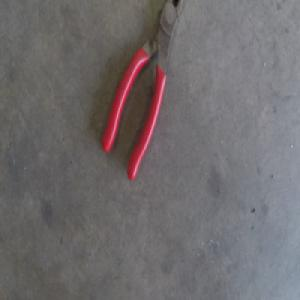Pliers: (101, 0, 183, 182)
